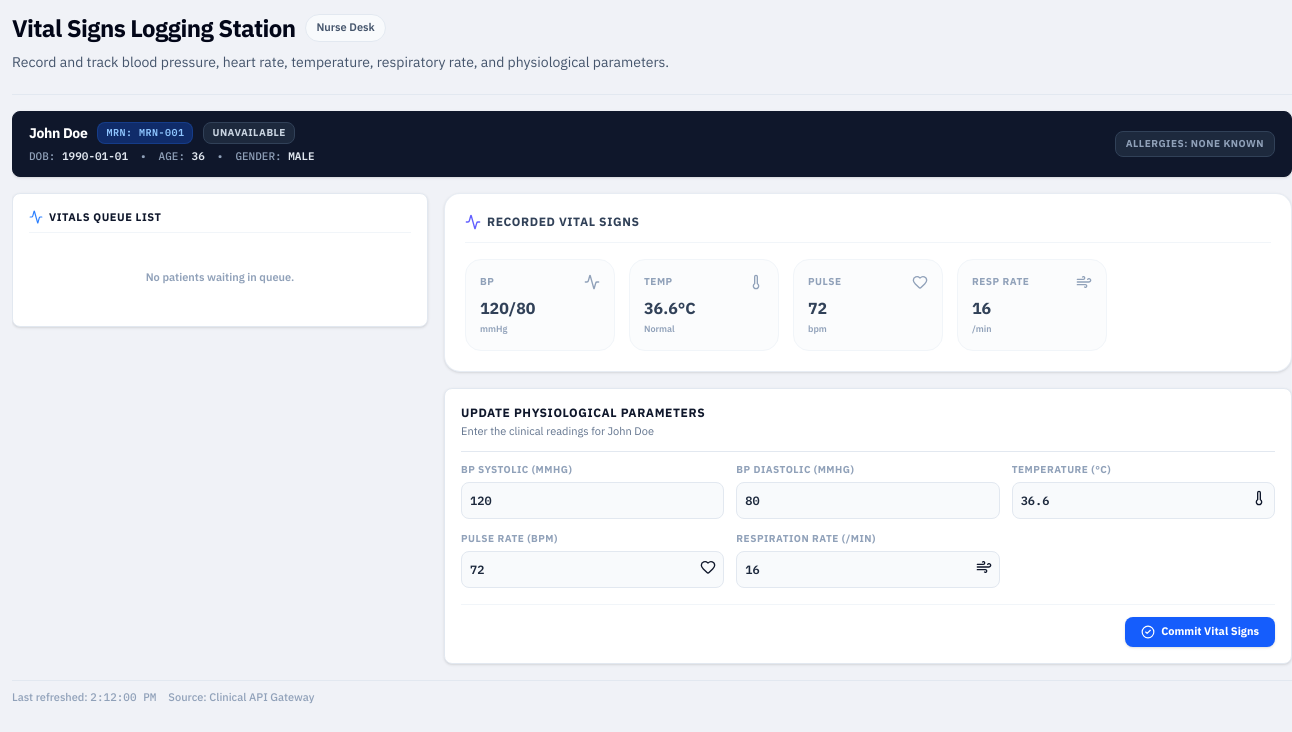
NurseVitalsPage Save Mutation › shows success state when vitals saved successfully
Expected: the heading "Update Physiological Parameters" is shown, [461,405,705,420]
Click the button "Commit Vital Signs" at (1200,632), box [1125,617,1275,647]
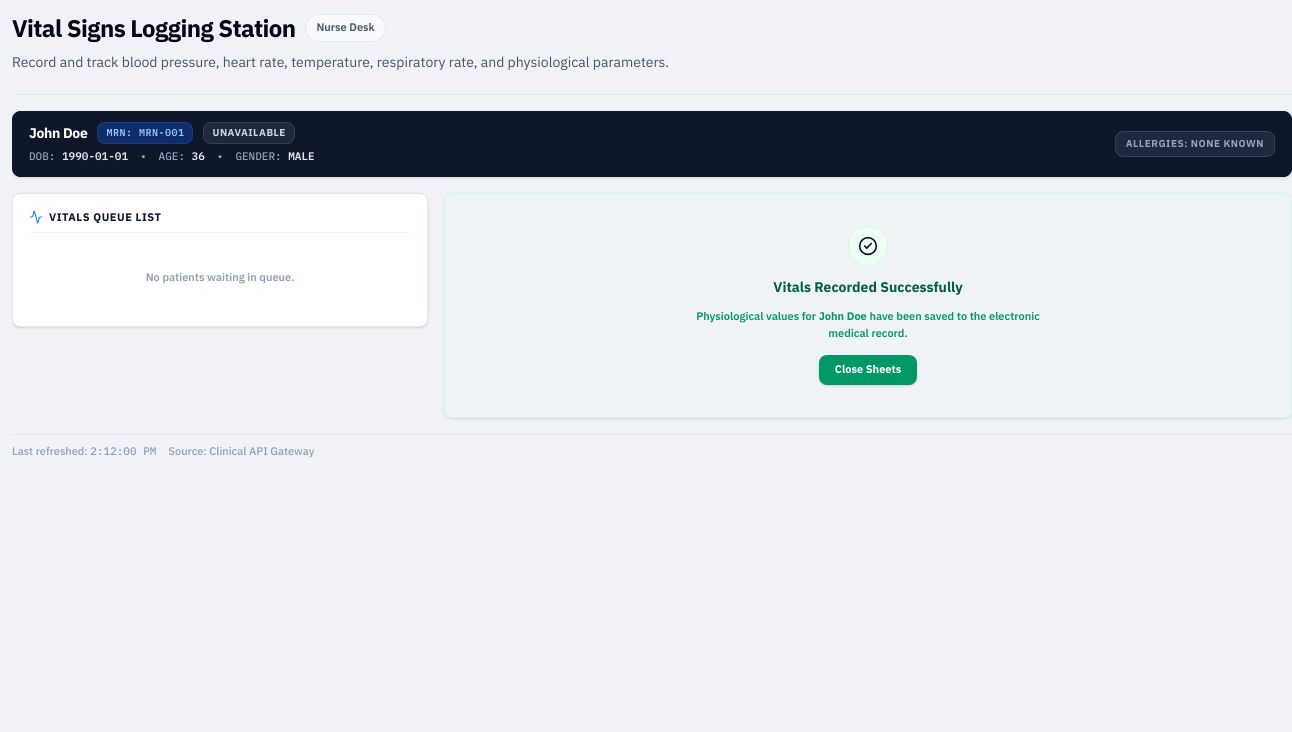
Expected: the heading "Vitals Recorded Successfully" is shown, [773,278,963,296]
